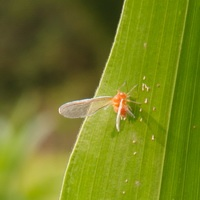insect: (59, 84, 140, 131)
